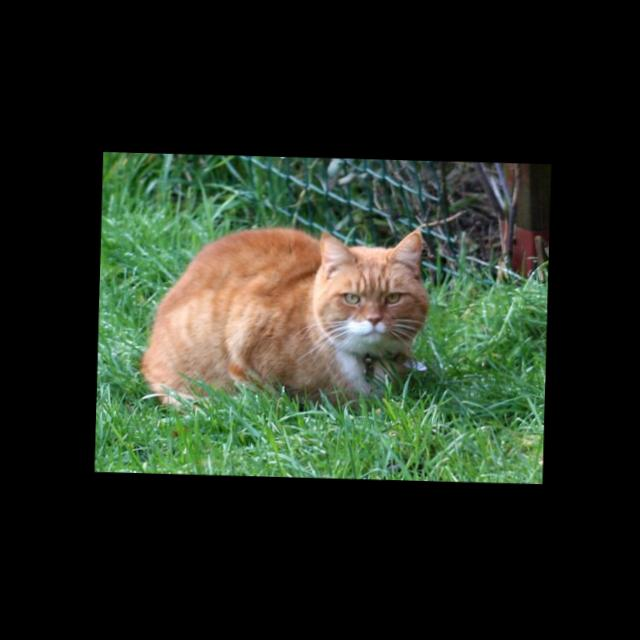animals: (140, 222, 431, 417)
